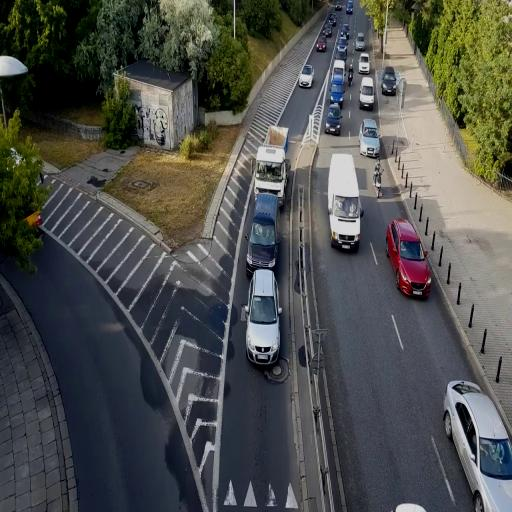vehicle: (442, 378, 512, 511), (246, 130, 287, 276), (386, 218, 432, 300), (244, 269, 281, 366), (328, 152, 363, 253), (246, 190, 280, 274), (254, 125, 288, 202), (360, 119, 380, 158), (324, 103, 342, 135), (359, 77, 375, 109), (330, 73, 345, 104), (381, 68, 398, 95), (298, 65, 314, 89)
